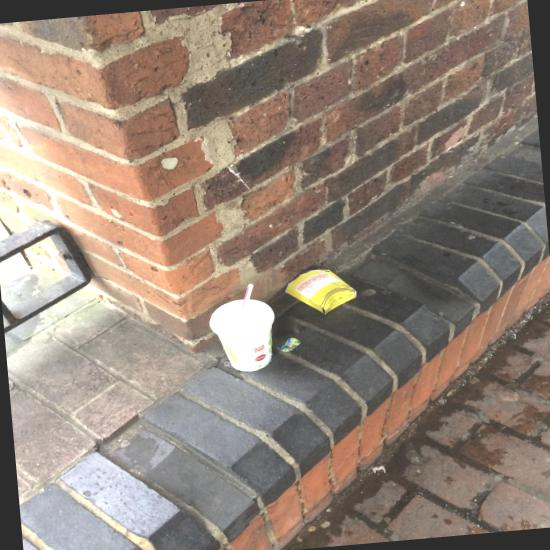Meal carton: (285, 269, 356, 314)
Other plastic: (281, 337, 300, 351)
Other plastic bottle: (372, 466, 385, 472)
Paper cup: (209, 299, 274, 371)
Plastic lid: (209, 299, 274, 338)
Plastic straw: (239, 283, 253, 316)
